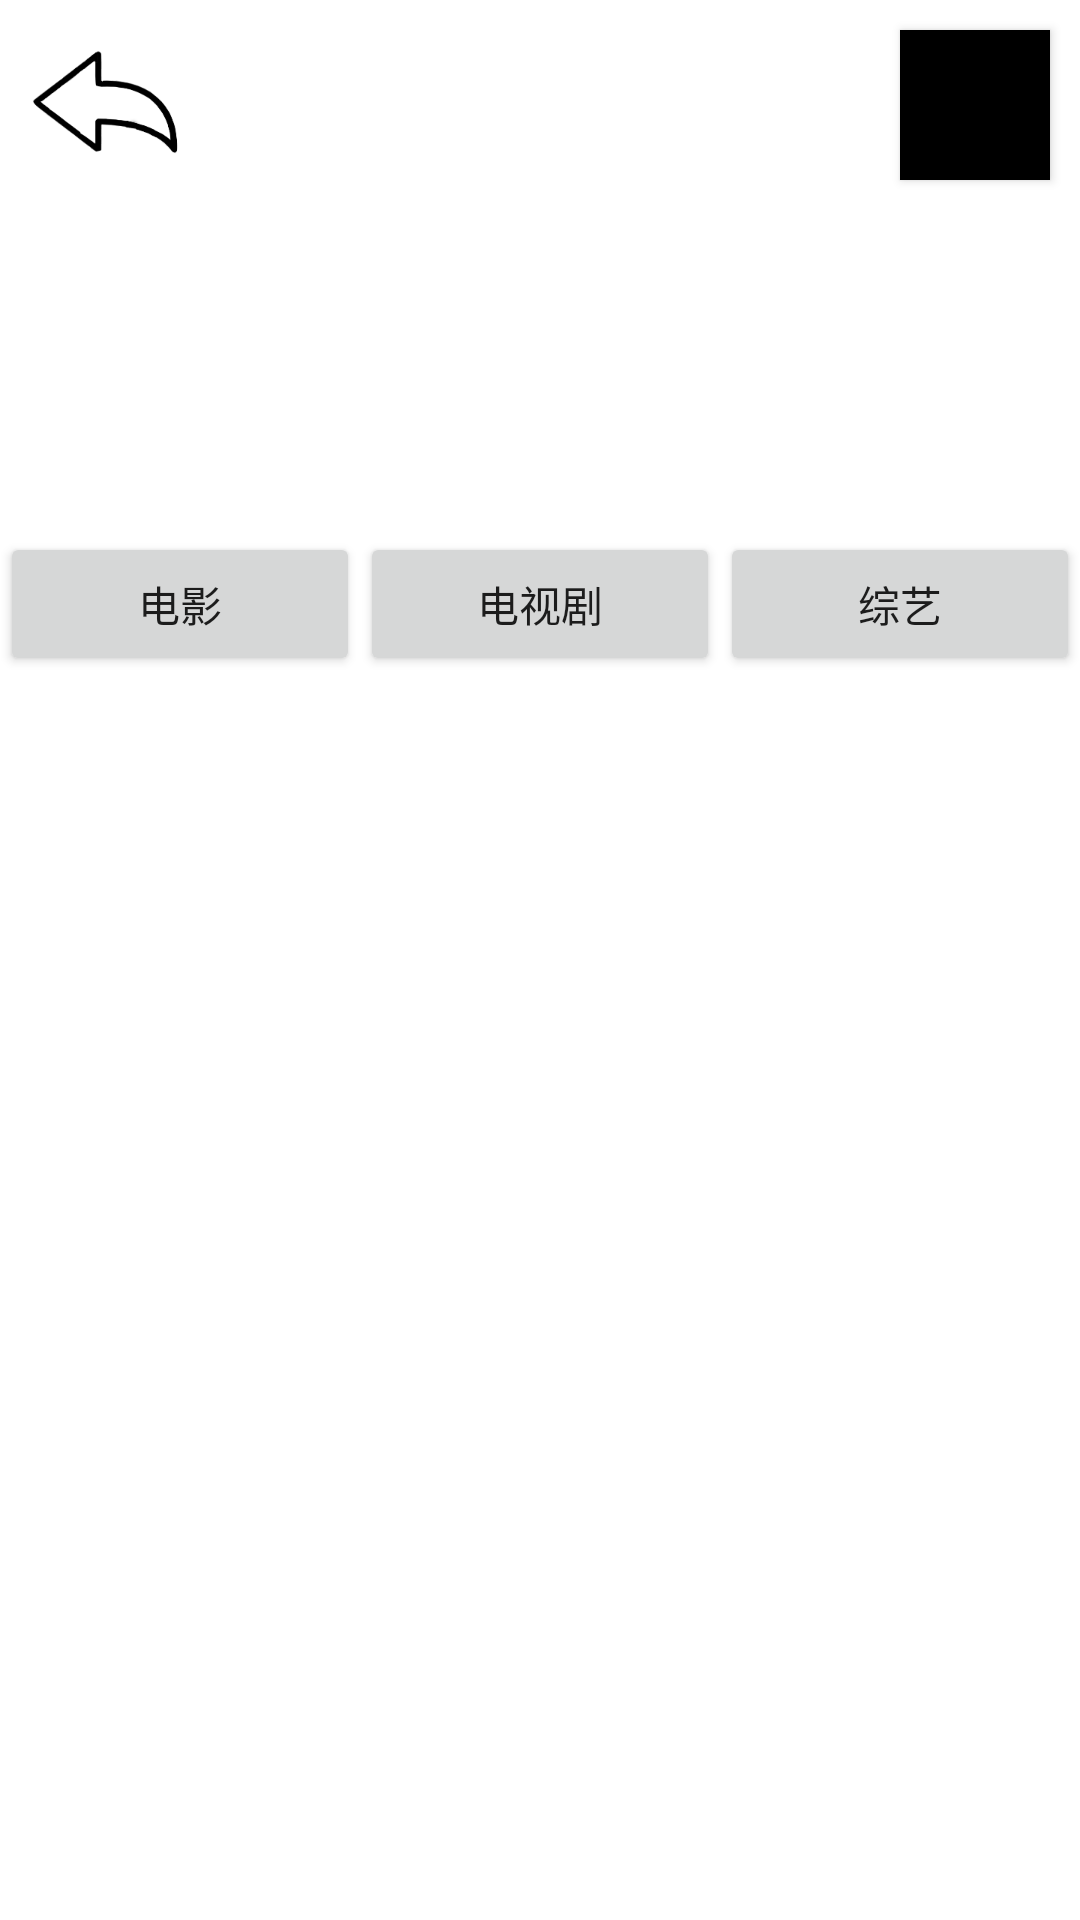

Screen size 1080px x 1920px. Icon name, then its box in pixels as (x1, y1, x2, y2):
backbutton: (33, 51, 178, 153)
